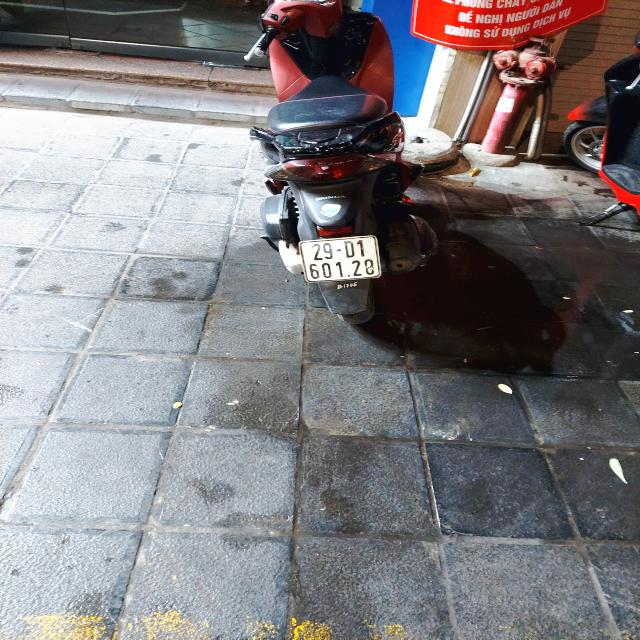license_plate: (301, 236, 383, 285)
